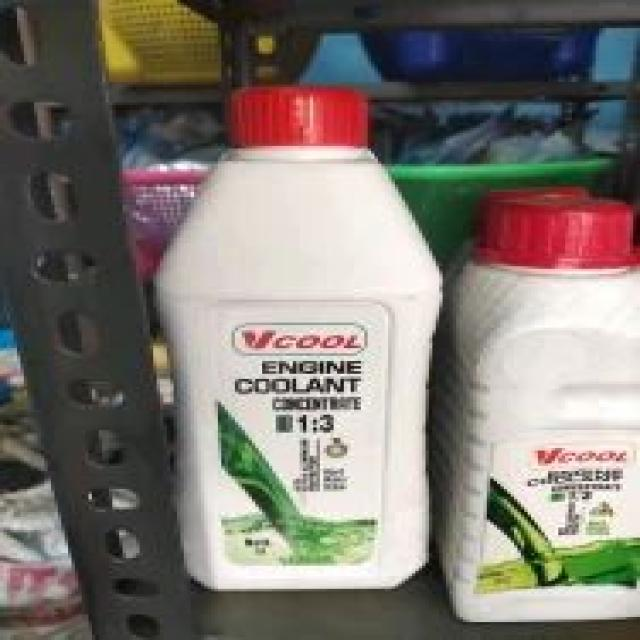coolant: (151, 79, 449, 587)
